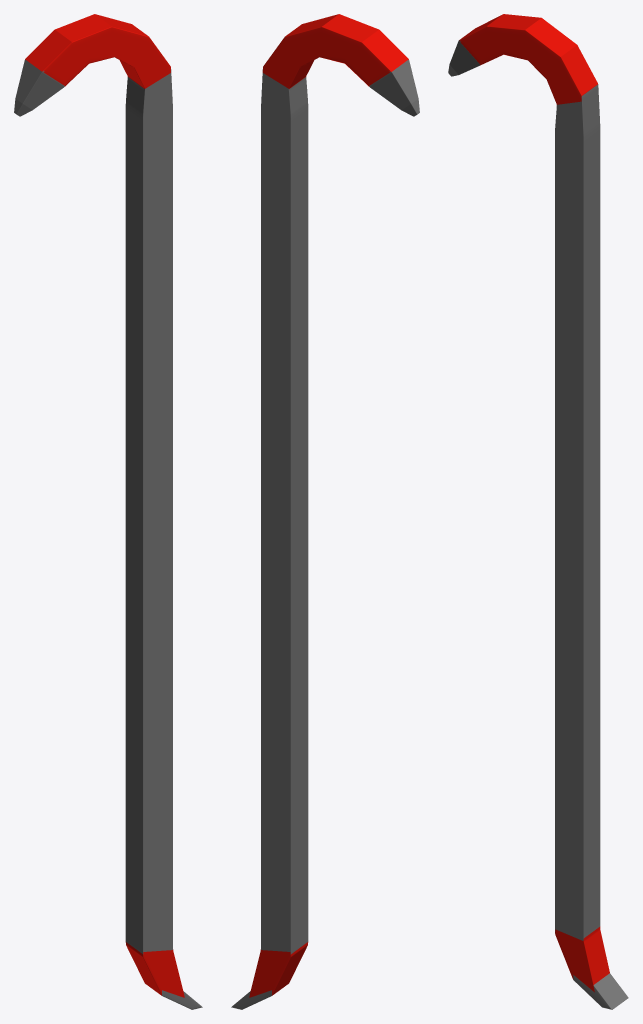
Rendered from Crowbar_05.fbx.
3 views of the same model, side by side, from view 1: azimuth 30°, elevation 25°; view 2: azimuth 150°, elevation 25°; view 3: azimuth 330°, elevation 25° (orthographic). The views are drawn at different scales.
Parts seen in each view (by area): view 1: Cube; view 2: Cube; view 3: Cube.
Boxes of the visible parts, x1,y1,x2,y2 form: Cube: (14,14,202,1009); Cube: (231,14,419,1009); Cube: (448,14,628,1009).
Bounding box in the file's own units: 81.88 × 439 × 13.79.
